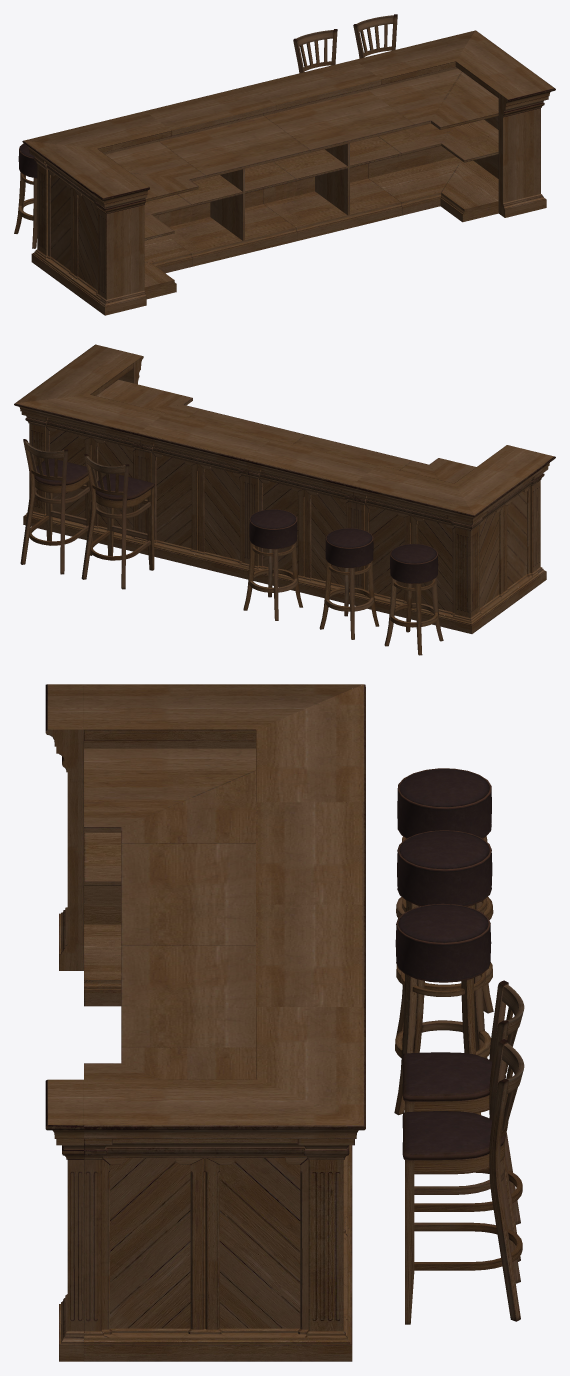
Rendered from Unity2Skfb.gltf.
The picture shows the model from 3 angles, top to bottom: view 1: azimuth 30°, elevation 25°; view 2: azimuth 150°, elevation 25°; view 3: azimuth 270°, elevation 25°; orthographic projection. The views are drawn at different scales.
Parts seen in each view (by area): view 1: re_bar_center, re_bar_center (1), re_bar_side_L (1), re_bar_side_L, re_bar_side_R (1), re_bar_side_R, re_bar_end_L, re_bar_end_R, re_ho_02, re_ho_01 (2), re_ho_01 (1); view 2: re_bar_center, re_bar_side_R, re_bar_center (1), re_bar_side_L (1), re_bar_side_L, re_ho_01 (2), re_bar_side_R (1), re_ho_01 (1), re_ho_02, re_ho_02 (2), re_ho_02 (1), re_bar_end_R (+1 smaller); view 3: re_bar_side_R (1), re_bar_side_L (1), re_bar_center, re_bar_center (1), re_bar_side_R, re_bar_side_L, re_ho_01 (1), re_ho_02 (2), re_ho_01 (2), re_ho_02 (1), re_bar_end_R, re_bar_end_L (+1 smaller).
Part boxes in pixels (left/top/right/bottom): re_bar_center: left=250, top=60, right=414, bottom=240; re_bar_center (1): left=145, top=85, right=310, bottom=266; re_bar_side_L (1): left=22, top=140, right=198, bottom=310; re_bar_side_L: left=355, top=30, right=474, bottom=215; re_bar_side_R (1): left=431, top=30, right=545, bottom=222; re_bar_side_R: left=24, top=111, right=205, bottom=273; re_bar_end_L: left=498, top=81, right=555, bottom=217; re_bar_end_R: left=93, top=180, right=149, bottom=315; re_ho_02: left=14, top=143, right=37, bottom=248; re_ho_01 (2): left=293, top=29, right=337, bottom=73; re_ho_01 (1): left=353, top=14, right=397, bottom=58; re_bar_center: left=138, top=409, right=305, bottom=579; re_bar_side_R: left=351, top=461, right=474, bottom=633; re_bar_center (1): left=244, top=435, right=412, bottom=604; re_bar_side_L (1): left=429, top=451, right=545, bottom=633; re_bar_side_L: left=14, top=394, right=199, bottom=553; re_ho_01 (2): left=81, top=454, right=154, bottom=589; re_bar_side_R (1): left=16, top=351, right=192, bottom=516; re_ho_01 (1): left=20, top=439, right=92, bottom=574; re_ho_02: left=384, top=544, right=443, bottom=655; re_ho_02 (2): left=243, top=509, right=302, bottom=620; re_ho_02 (1): left=319, top=528, right=379, bottom=639; re_bar_end_R: left=498, top=445, right=555, bottom=583; re_bar_side_R (1): left=84, top=1063, right=365, bottom=1361; re_bar_side_L (1): left=84, top=684, right=362, bottom=1006; re_bar_center: left=121, top=904, right=365, bottom=1231; re_bar_center (1): left=121, top=802, right=365, bottom=945; re_bar_side_R: left=121, top=684, right=365, bottom=842; re_bar_side_L: left=121, top=1007, right=365, bottom=1344; re_ho_01 (1): left=402, top=1039, right=524, bottom=1324; re_ho_02 (2): left=394, top=903, right=491, bottom=1115; re_ho_01 (2): left=402, top=980, right=524, bottom=1261; re_ho_02 (1): left=396, top=830, right=493, bottom=1036; re_bar_end_R: left=45, top=684, right=83, bottom=970; re_bar_end_L: left=45, top=1079, right=83, bottom=1361.
Bounding box in the file's own units: 4.33 × 1.1 × 1.98.
5 materials, 5 textured.
